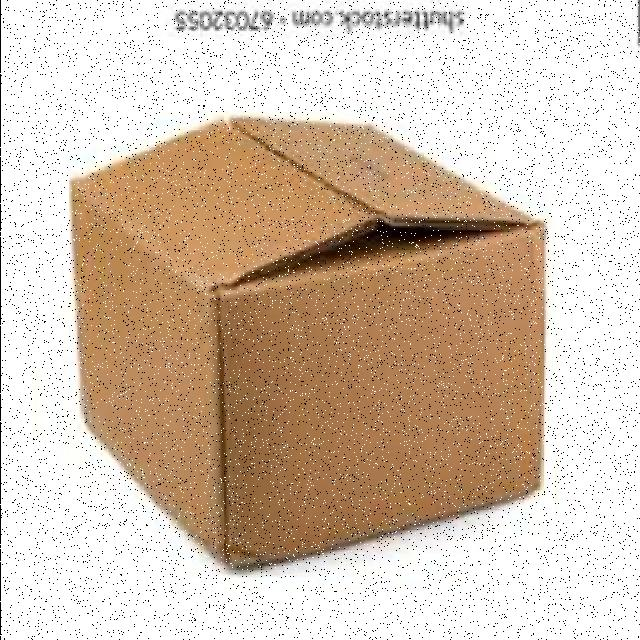defect: (68, 111, 554, 578)
